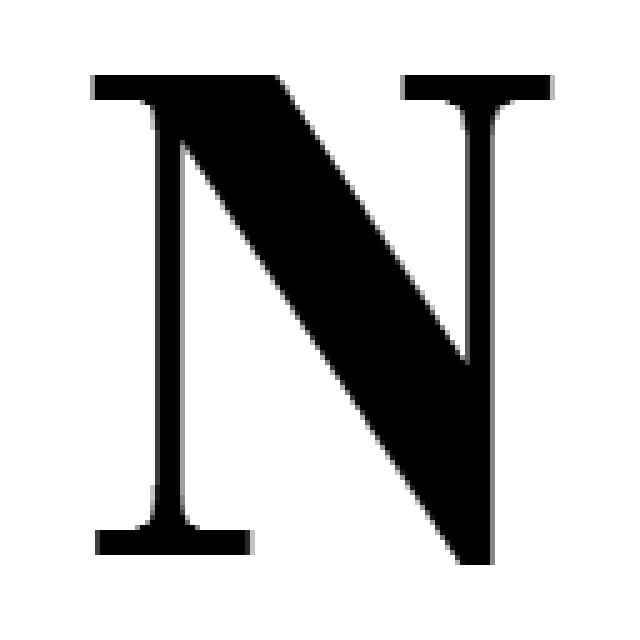N: (80, 66, 573, 566)
